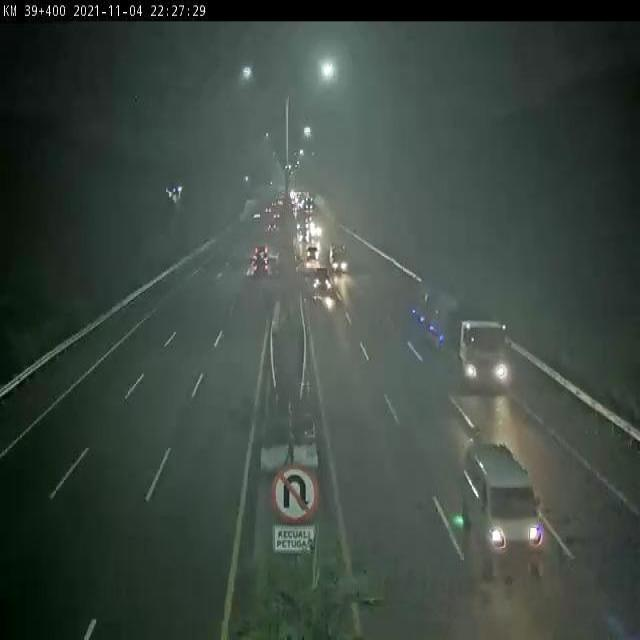Car: (312, 267, 332, 292)
Truck: (408, 281, 512, 404), (329, 240, 349, 274)
Van: (462, 428, 545, 574)
